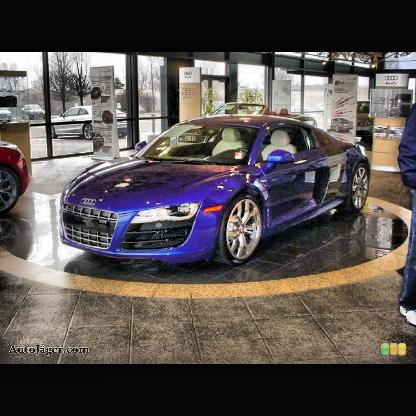Audi R8 Coupe 2012: (57, 99, 374, 273)
